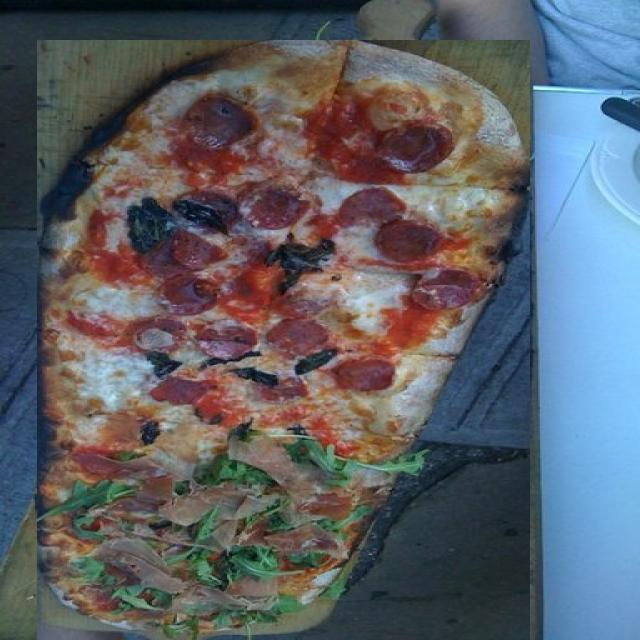basil: (234, 389, 305, 439), (397, 420, 442, 483), (334, 442, 397, 485), (229, 304, 277, 332), (289, 288, 337, 316), (389, 304, 424, 333)
pepperoni: (340, 403, 429, 452), (313, 531, 384, 585), (115, 509, 189, 558), (260, 449, 328, 499), (94, 369, 154, 413), (165, 450, 227, 492), (128, 417, 188, 459), (354, 364, 416, 404), (310, 321, 373, 358), (238, 326, 302, 362), (175, 290, 232, 322), (358, 276, 416, 302)
pizza: (37, 40, 530, 640)
